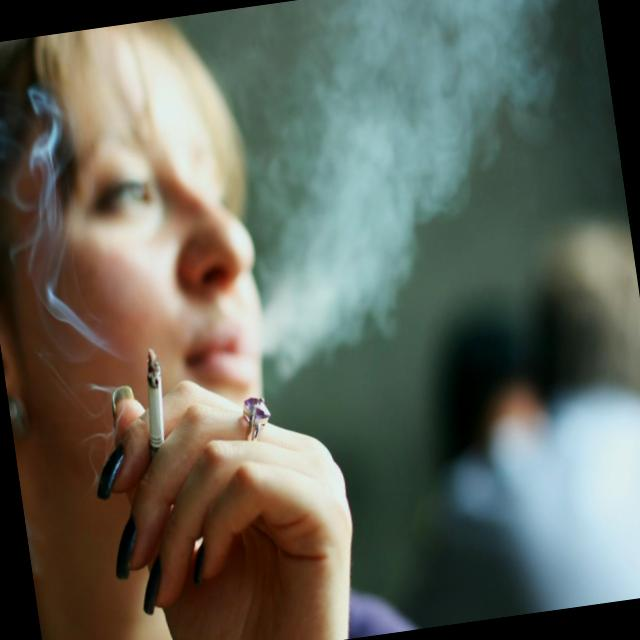cigarette: (129, 338, 182, 481)
